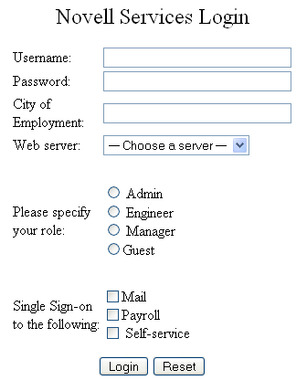_form_: (1, 1, 296, 380)
button: (98, 356, 149, 377), (152, 356, 204, 376)
checkbox: (104, 288, 120, 304), (105, 306, 120, 322), (106, 325, 120, 341)
checkbox_with_label: (104, 324, 189, 343), (104, 305, 160, 323), (103, 287, 149, 305)
field: (100, 70, 292, 93), (101, 102, 293, 125), (100, 46, 291, 69)
field_with_label: (12, 99, 293, 129), (12, 69, 293, 94), (11, 45, 292, 69), (12, 133, 253, 157)
radio: (106, 221, 122, 239), (106, 241, 122, 258), (105, 184, 122, 199), (106, 203, 121, 220)
radio_with_label: (105, 220, 175, 240), (104, 201, 173, 221), (103, 182, 164, 200), (104, 239, 154, 260)
select: (101, 134, 251, 156)
